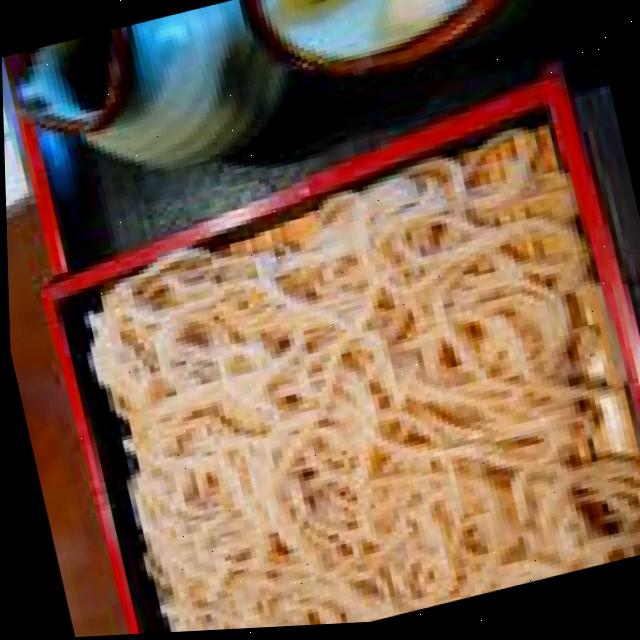面条主食: (2, 42, 640, 640)
